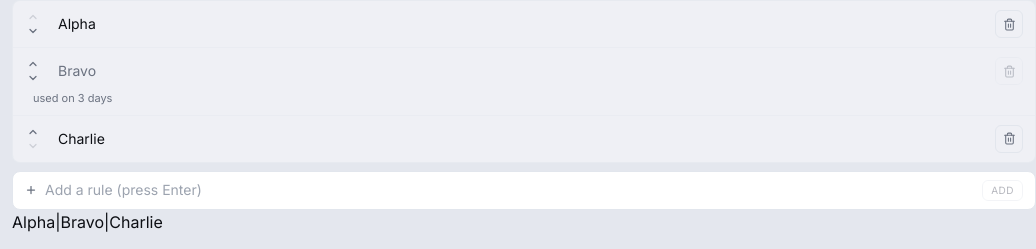
Test: (1) arrows — adjacent swap, end-guards, precedent aria, frozen rows movable › a FROZEN row reorders with its frozen treatment intact (live arrows, read-only name, disabled delete, day-count)
The width and height of the screenshot is (1036, 249).
Expected: the button named "Cannot remove Bravo — used on 3 days" is disabled, [995,57,1023,85]
Expected: the text "used on 3 days" is shown, [33,91,112,105]
Click the button named "Move Bravo up": (33, 64) [25,57,41,71]
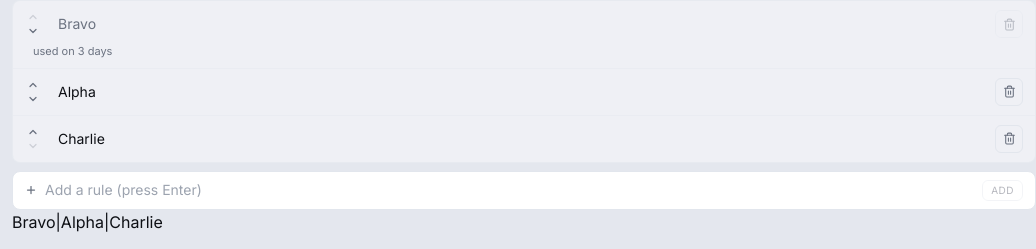
Expected: the button named "Cannot remove Bravo — used on 3 days" is disabled, [995,10,1023,38]
Now the text with test id "order" reads "Bravo|Alpha|Charlie", box [12,212,163,232]
